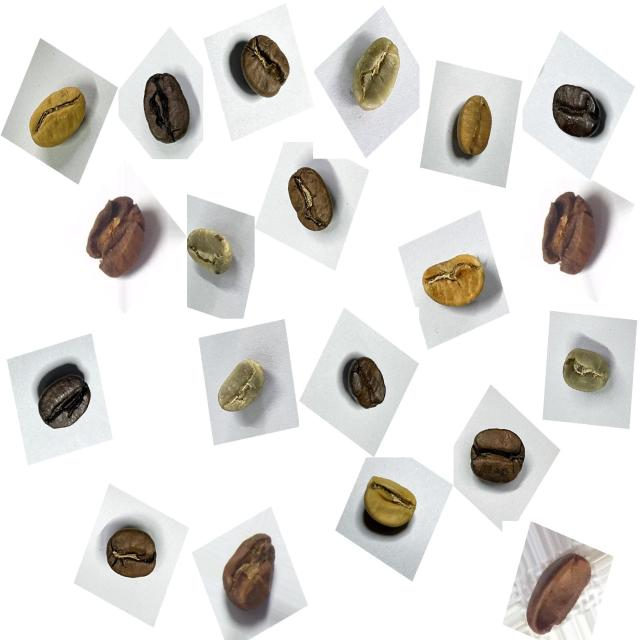bad: (530, 180, 616, 284), (516, 538, 601, 637), (208, 519, 286, 626), (81, 185, 161, 285)
dark: (129, 60, 200, 159), (28, 356, 101, 446), (542, 72, 611, 154)
green: (336, 29, 411, 127), (209, 348, 275, 431), (554, 334, 618, 405), (179, 215, 242, 287)
light: (20, 74, 98, 164), (411, 238, 490, 322), (355, 463, 431, 549), (439, 85, 508, 173)
medium: (463, 415, 534, 501), (230, 25, 302, 109), (276, 159, 346, 244), (99, 518, 166, 594), (335, 346, 395, 420)
